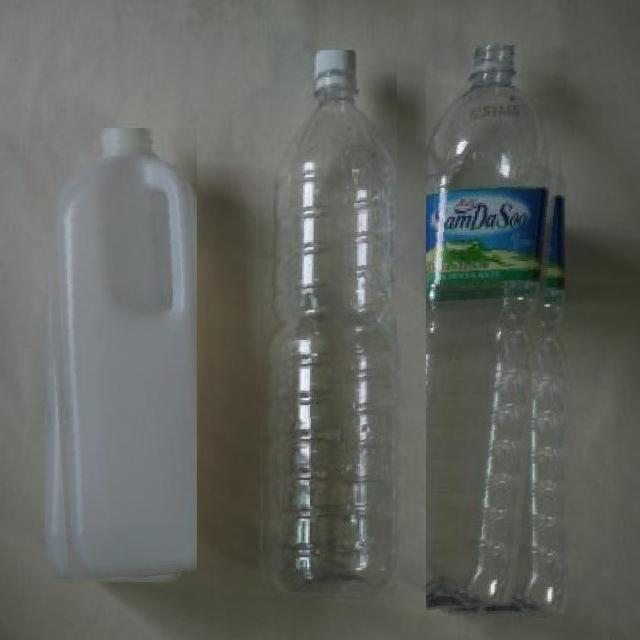plastic bottle: (426, 46, 572, 614), (256, 50, 397, 604), (39, 128, 198, 584)
